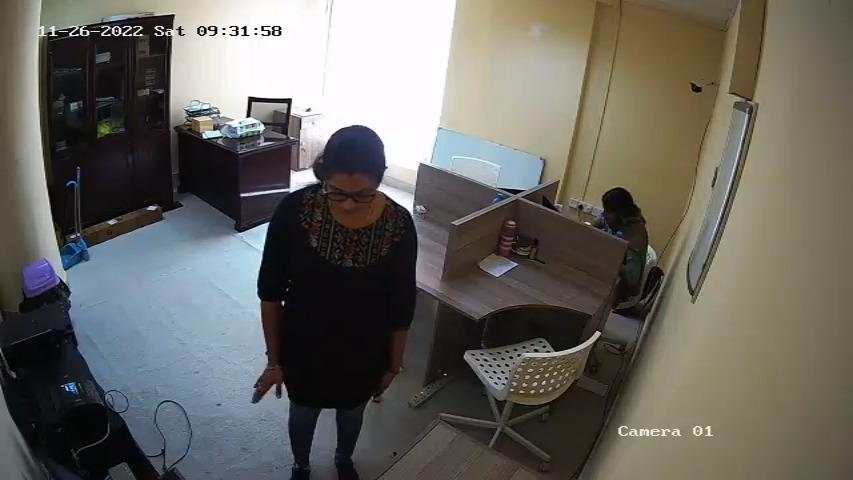no_apron: (294, 210, 398, 371)
